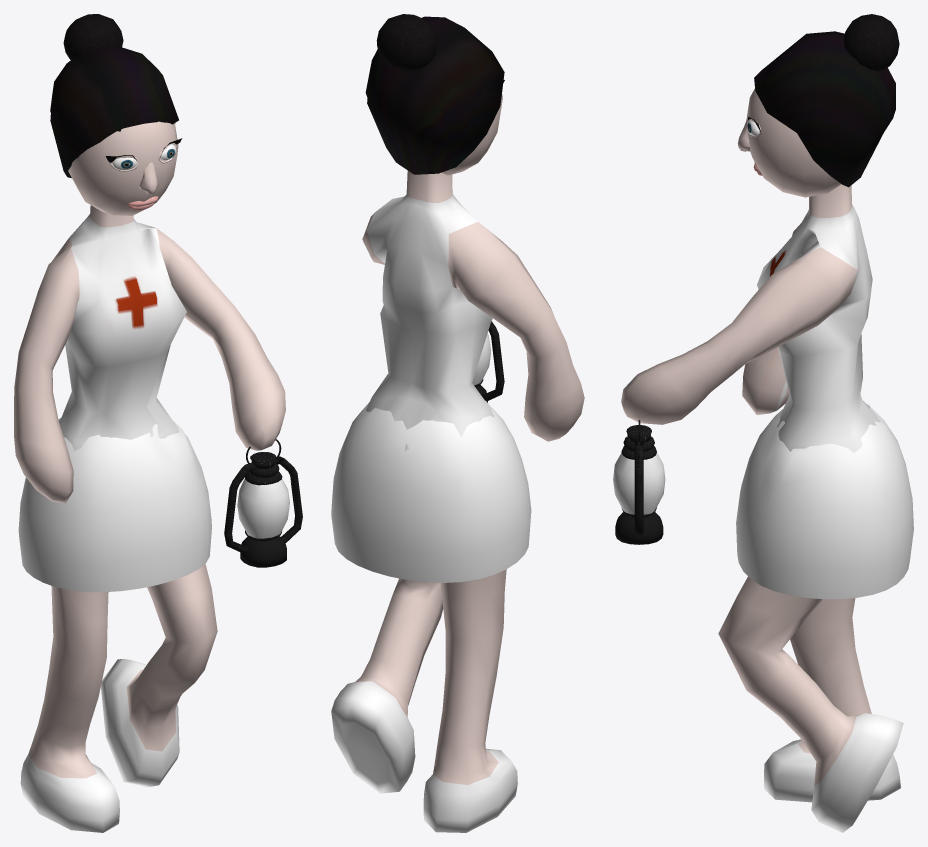
Rendered from walking_000020.obj.
3 renders of one model, left to right at view 1: azimuth 30°, elevation 25°; view 2: azimuth 150°, elevation 25°; view 3: azimuth 270°, elevation 25°, orthographic. The views are drawn at different scales.
Visible parts, largest first — view 1: Cube_Cube.001, Cube.001_Cube, Cube.004; view 2: Cube_Cube.001, Cube.001_Cube, Cube.004; view 3: Cube_Cube.001, Cube.001_Cube, Cube.004.
Boxes of the visible parts, x1=… form: Cube_Cube.001: x1=14, y1=14, x2=285, y2=832; Cube.001_Cube: x1=18, y1=417, x2=211, y2=592; Cube.004: x1=224, y1=439, x2=302, y2=567; Cube_Cube.001: x1=331, y1=14, x2=584, y2=832; Cube.001_Cube: x1=331, y1=400, x2=531, y2=582; Cube.004: x1=472, y1=321, x2=504, y2=402; Cube_Cube.001: x1=621, y1=14, x2=903, y2=832; Cube.001_Cube: x1=736, y1=403, x2=913, y2=599; Cube.004: x1=613, y1=420, x2=665, y2=544.
Size of the model in its own units: 0.6082 by 2.08 by 0.7124.
